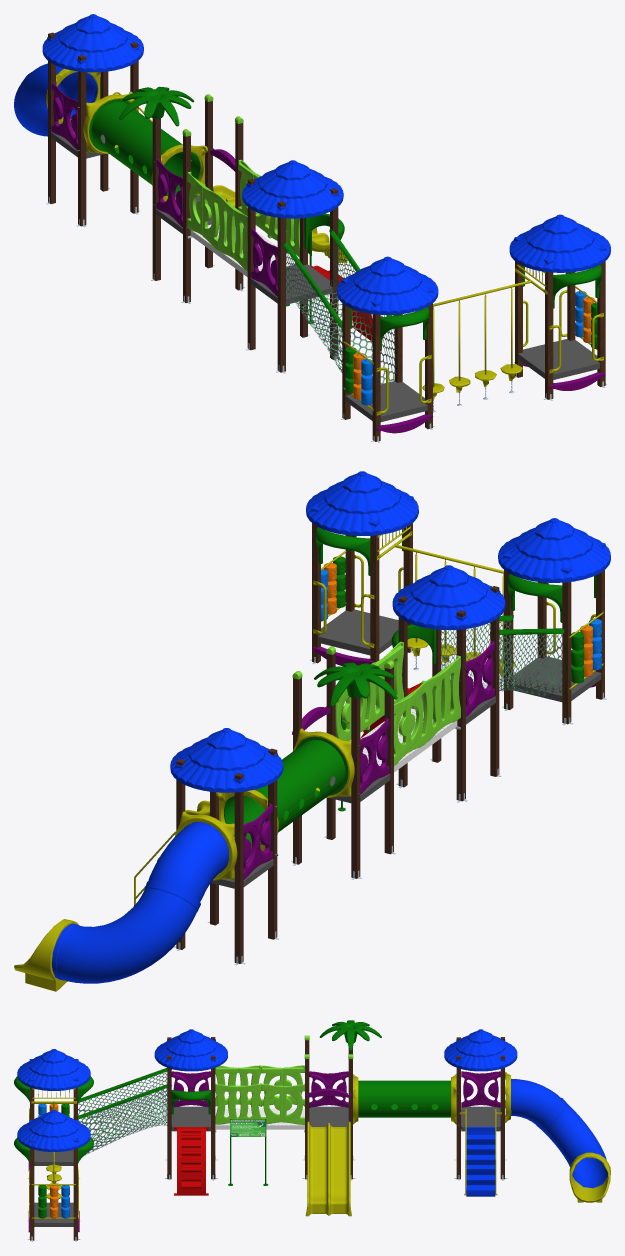
3 renders of one model, top to bottom at view 1: azimuth 30°, elevation 25°; view 2: azimuth 150°, elevation 25°; view 3: azimuth 270°, elevation 25°, orthographic. The views are drawn at different scales.
Visible parts, largest first — view 1: object 35, object 6, object 28, object 31, TOLDO M2, TOLDO M2.001, TOLDO M2.002, TOLDO M2.003, PLATAFORMA M1.006, PLATAFORMA M1.010, object 12, PLATAFORMA M1.004 (+20 smaller); view 2: object 35, object 6, object 31, TOLDO M2.001, TOLDO M2, TOLDO M2.003, TOLDO M2.002, object 28, PLATAFORMA M1.006, PLATAFORMA M1.010, COLUNA MAD PLAST 9 X 9CM.007, JOGO DA VELHA.001 (+17 smaller); view 3: object 35, object 6, object 31, object 28, object 12, TOLDO M2, TOLDO M2.001, TOLDO M2.003, TOLDO M2.002, JOGO DA VELHA, PLATAFORMA M1, PLATAFORMA M1.004 (+13 smaller).
Boxes of the visible parts, left/top/right/bottom form: object 35: left=14, top=63, right=294, bottom=276; object 6: left=51, top=82, right=522, bottom=398; object 28: left=78, top=107, right=547, bottom=412; object 31: left=187, top=159, right=299, bottom=271; TOLDO M2: left=509, top=214, right=610, bottom=272; TOLDO M2.001: left=337, top=256, right=438, bottom=314; TOLDO M2.002: left=42, top=14, right=143, bottom=72; TOLDO M2.003: left=242, top=160, right=343, bottom=218; PLATAFORMA M1.006: left=518, top=339, right=599, bottom=379; PLATAFORMA M1.010: left=345, top=381, right=427, bottom=421; object 12: left=284, top=228, right=396, bottom=341; PLATAFORMA M1.004: left=250, top=264, right=332, bottom=304; object 35: left=52, top=662, right=457, bottom=983; object 6: left=14, top=638, right=516, bottom=991; object 31: left=335, top=641, right=460, bottom=765; TOLDO M2.001: left=498, top=518, right=610, bottom=582; TOLDO M2: left=306, top=471, right=418, bottom=535; TOLDO M2.003: left=392, top=565, right=505, bottom=629; TOLDO M2.002: left=170, top=728, right=283, bottom=792; object 28: left=275, top=531, right=562, bottom=855; PLATAFORMA M1.006: left=318, top=609, right=398, bottom=655; PLATAFORMA M1.010: left=510, top=656, right=601, bottom=702; COLUNA MAD PLAST 9 X 9CM.007: left=351, top=698, right=360, bottom=878; JOGO DA VELHA.001: left=569, top=612, right=603, bottom=689; object 35: left=215, top=1020, right=607, bottom=1196; object 6: left=46, top=1071, right=610, bottom=1216; object 31: left=215, top=1065, right=304, bottom=1124; object 28: left=31, top=1071, right=304, bottom=1183; object 12: left=73, top=1068, right=208, bottom=1195; TOLDO M2: left=17, top=1110, right=90, bottom=1151; TOLDO M2.001: left=17, top=1049, right=90, bottom=1090; TOLDO M2.003: left=154, top=1029, right=227, bottom=1071; TOLDO M2.002: left=444, top=1029, right=517, bottom=1071; JOGO DA VELHA: left=31, top=1184, right=75, bottom=1218; PLATAFORMA M1: left=461, top=1106, right=500, bottom=1131; PLATAFORMA M1.004: left=171, top=1106, right=210, bottom=1131.
Size of the model in its own units: 4.87 by 3.19 by 12.42.
20 materials, 3 textured.
